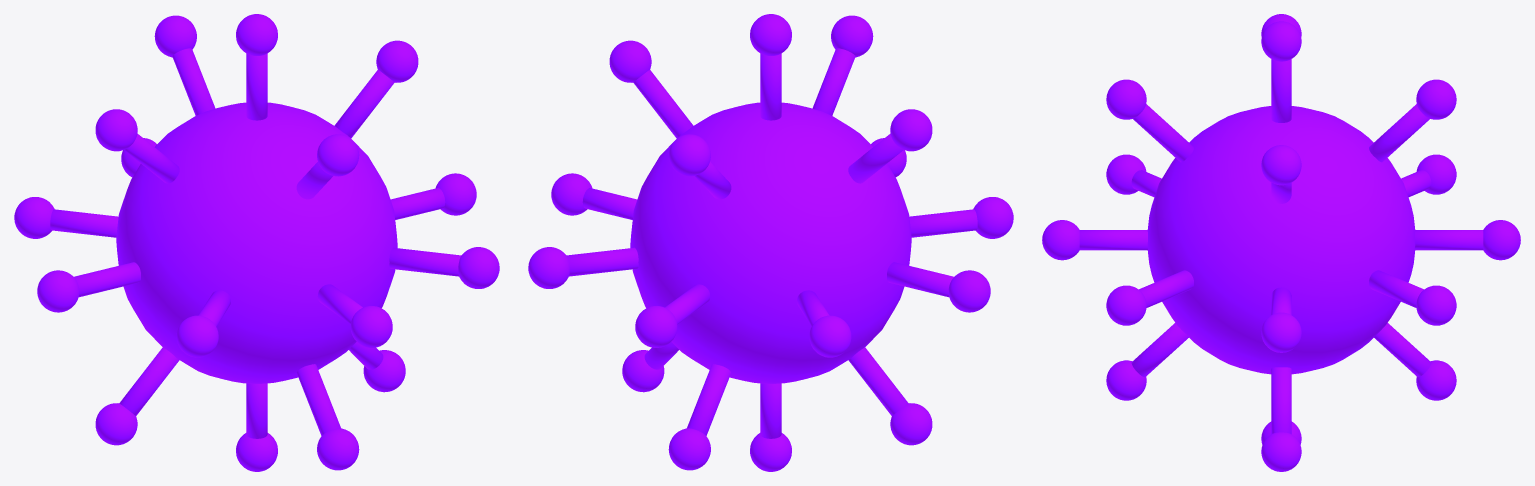
The model's file is virus2.fbx.
3 views of the same model, side by side, from view 1: azimuth 30°, elevation 25°; view 2: azimuth 150°, elevation 25°; view 3: azimuth 270°, elevation 25° (orthographic). The views are drawn at different scales.
Visible parts, largest first — view 1: Virus2; view 2: Virus2; view 3: Virus2.
Boxes of the visible parts, left/top/right/bottom form: Virus2: left=14, top=14, right=499, bottom=471; Virus2: left=528, top=14, right=1013, bottom=471; Virus2: left=1042, top=14, right=1520, bottom=471.
Bounding box in the file's own units: 355 × 355 × 355.
